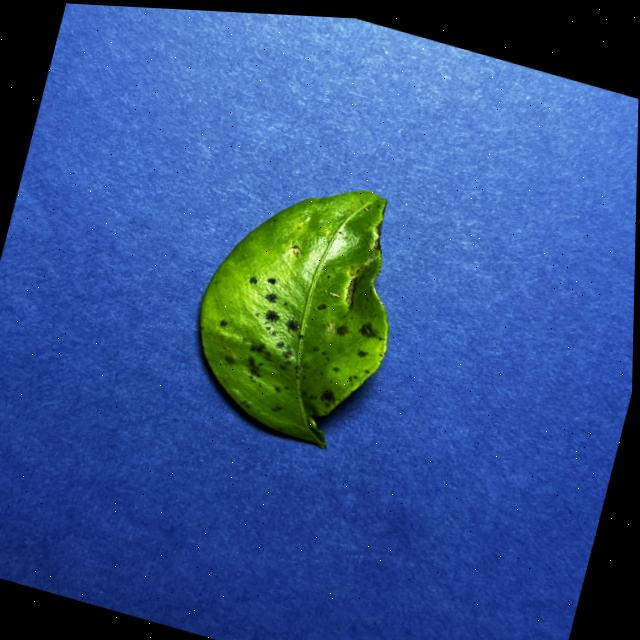sooty_mold: (200, 191, 388, 447)
